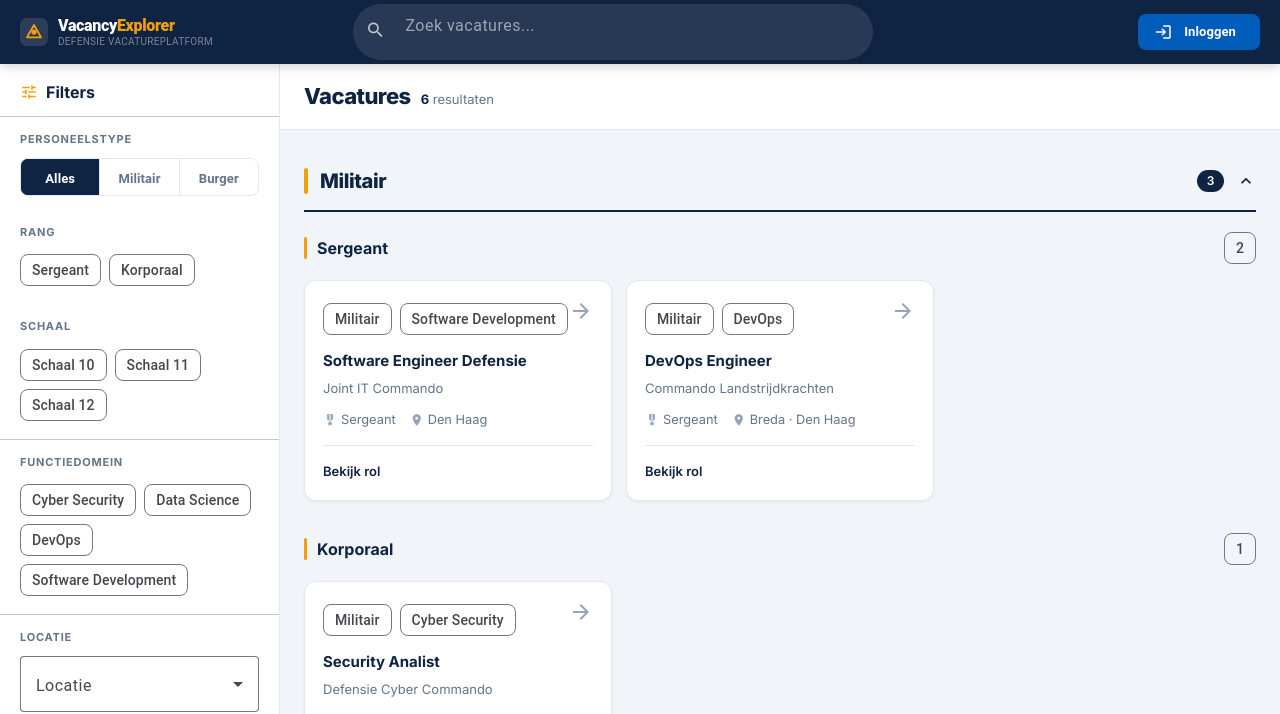
Test: Vacancy overview – search › is case-insensitive
Expected: the element with test id "vacancy-card" that starts with "Militair" is shown, x1=304 y1=280 x2=612 y2=501
Type "backend developer" into the search field with test id "search-input" at point(631, 26), box x1=405 y1=14 x2=857 y2=38
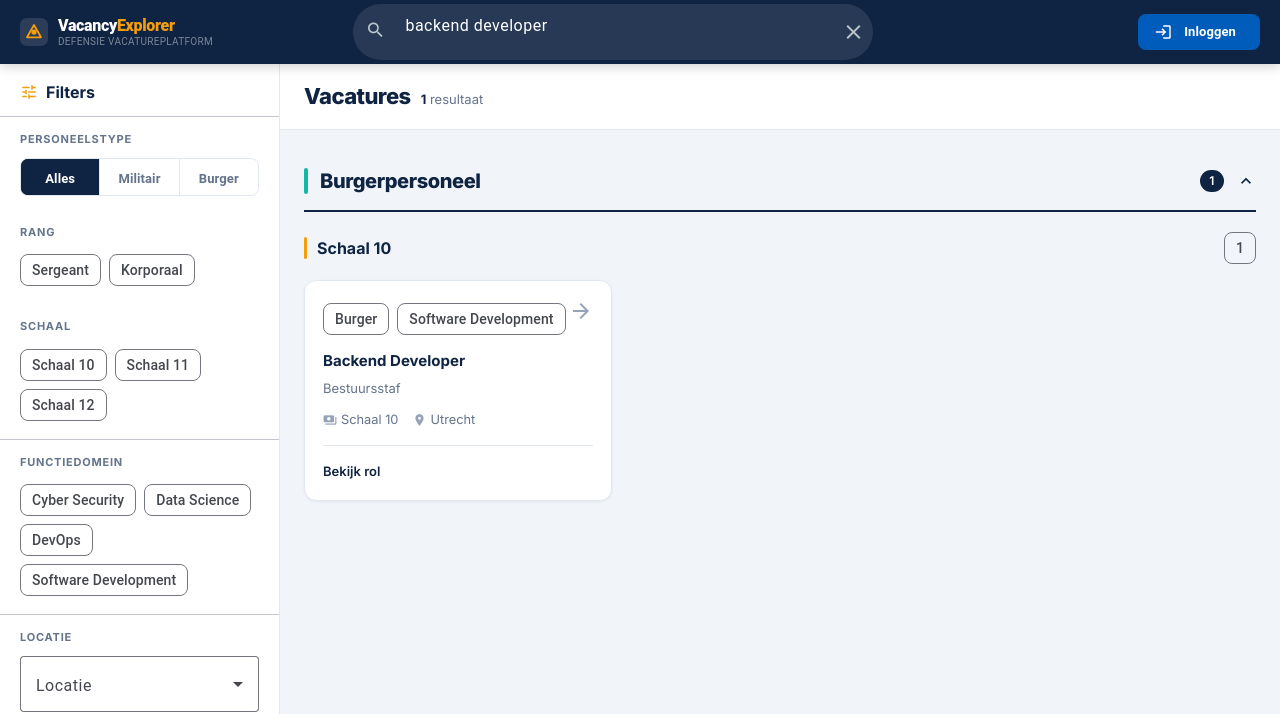
Expected: the heading with test id "vacancy-card-title" reads "Backend Developer", x1=323 y1=351 x2=465 y2=370
Expected: the text with test id "results-count-value" reads "1", x1=421 y1=91 x2=427 y2=107
